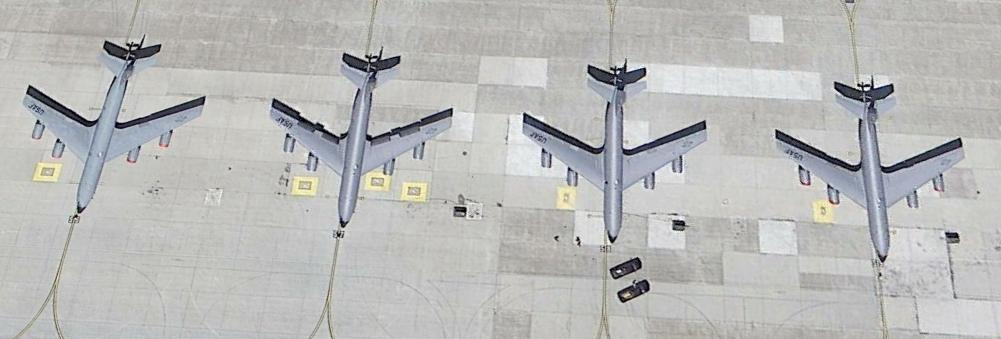KC-135: (769, 75, 967, 270), (268, 43, 455, 230), (522, 60, 713, 241), (21, 34, 204, 217)
